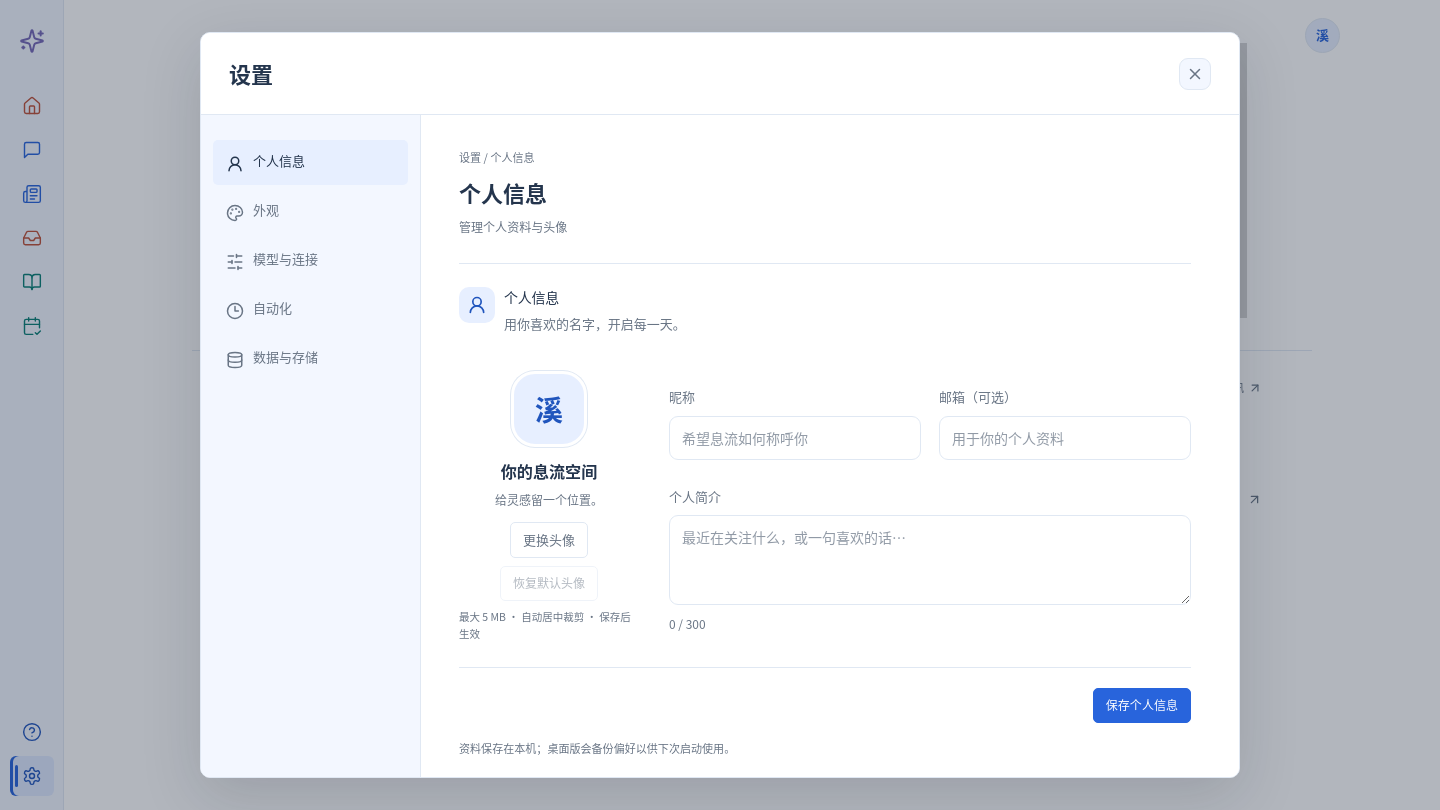
Test: automation management is inside 设置 instead of the global toolbar
Click the tab "自动化".
click(310, 310)  # box [213,287,408,332]
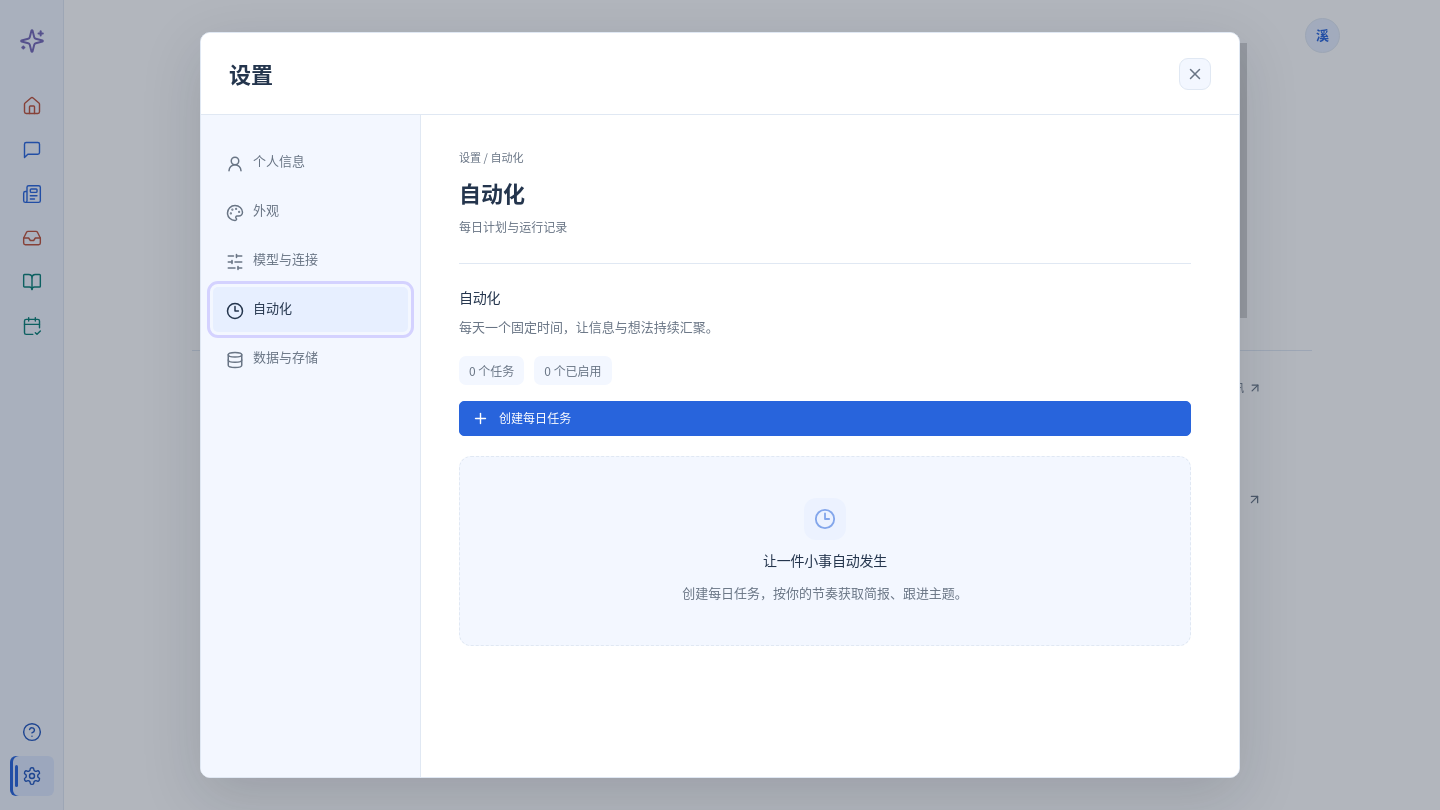
Click the button "创建每日任务".
click(535, 418)  # box [459,401,1191,436]
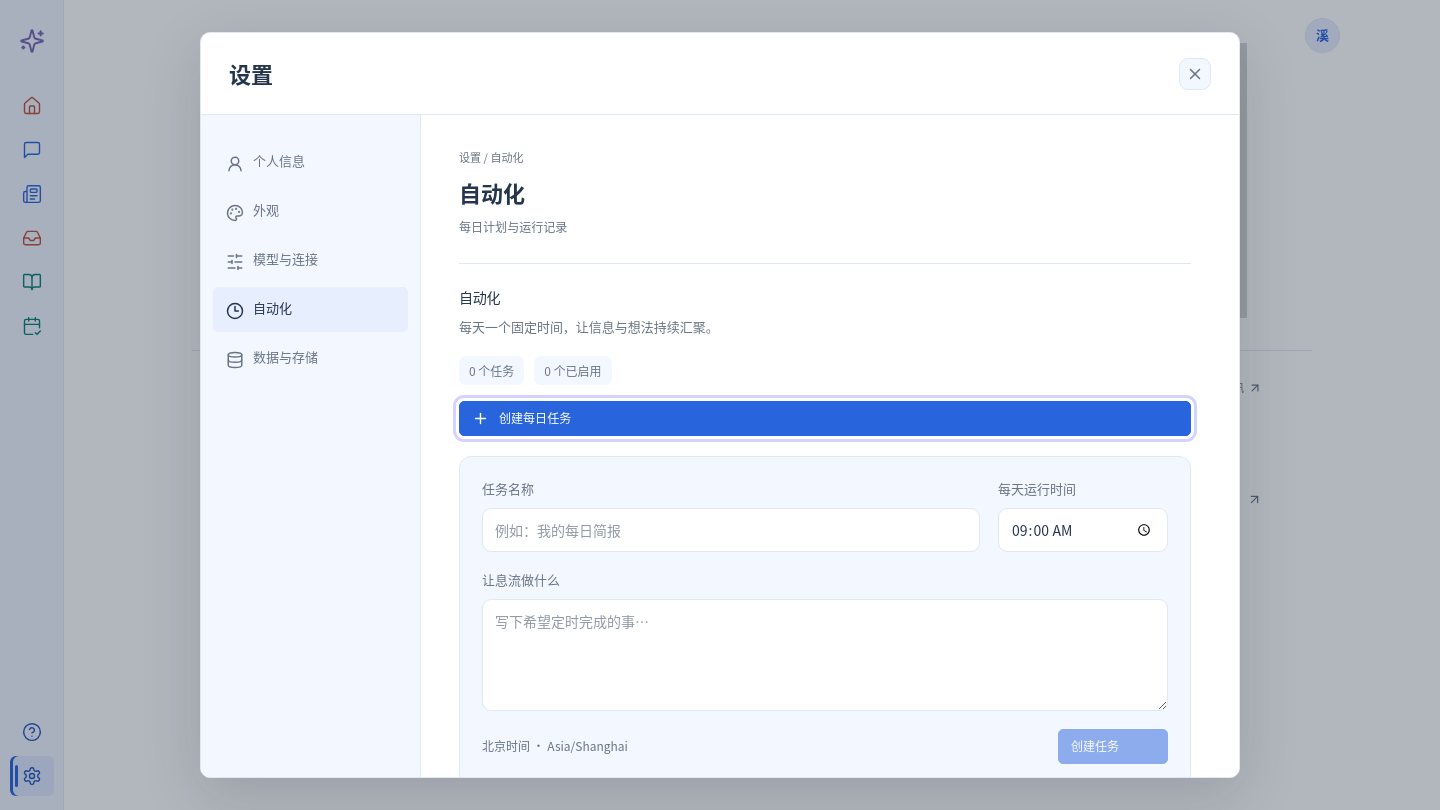
Check: the field labelled "任务名称" is shown, box [482,508,980,552]
